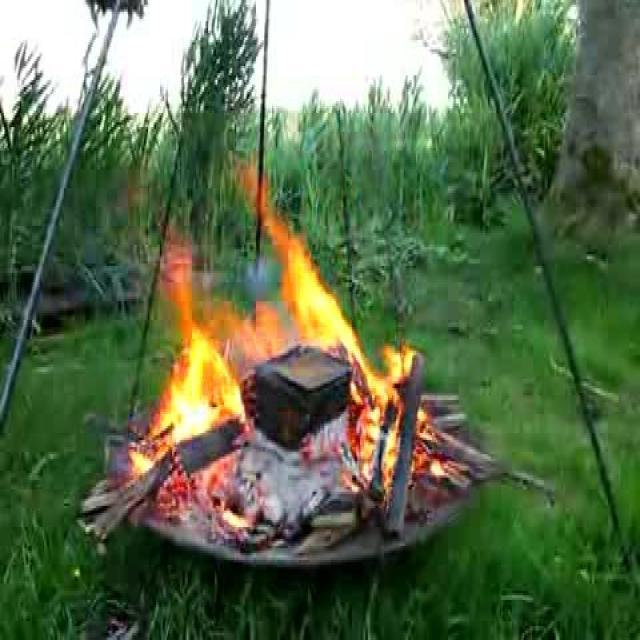Fire: (167, 286, 236, 440), (283, 229, 337, 371)
